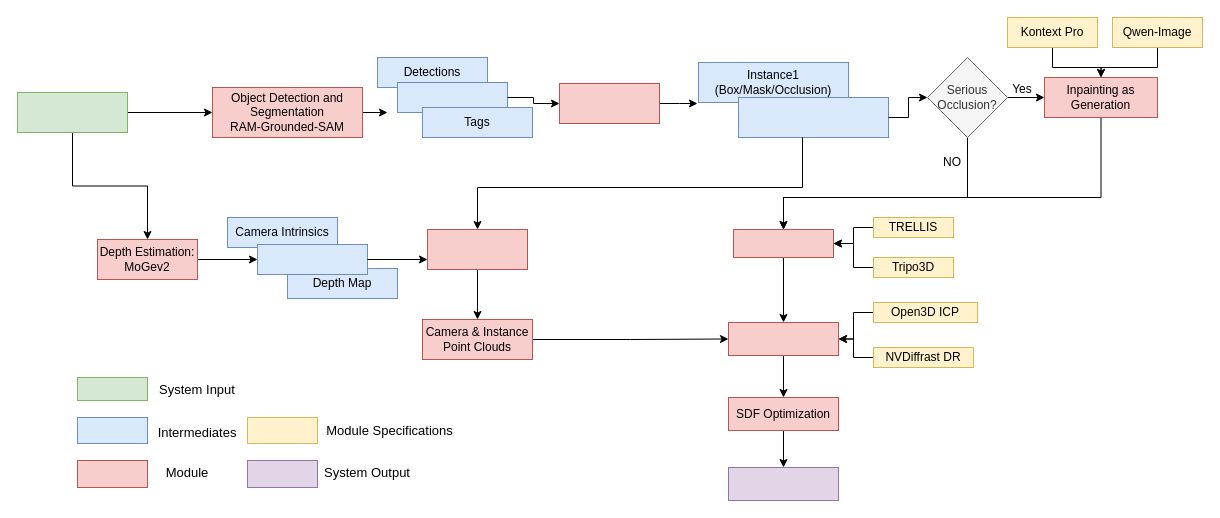
This 1220x518 diagram has some shape labels left out. The box of each missing label's shape, as (x1, y1, x2, y2) in pixels:
Image to Mesh: (732, 228, 834, 258)
Input RGB Image: (16, 92, 128, 132)
Instance Filtering Qwen-VL: (558, 82, 660, 124)
InstanceK (Box/Mask/Occlusion): (738, 96, 888, 138)
Masks: (396, 82, 508, 112)
Normal Map: (256, 244, 368, 274)
Point Cloud Extraction: (426, 228, 528, 270)
Pose Registration: (728, 322, 838, 356)
Reconstructed Scene: (728, 466, 838, 500)
